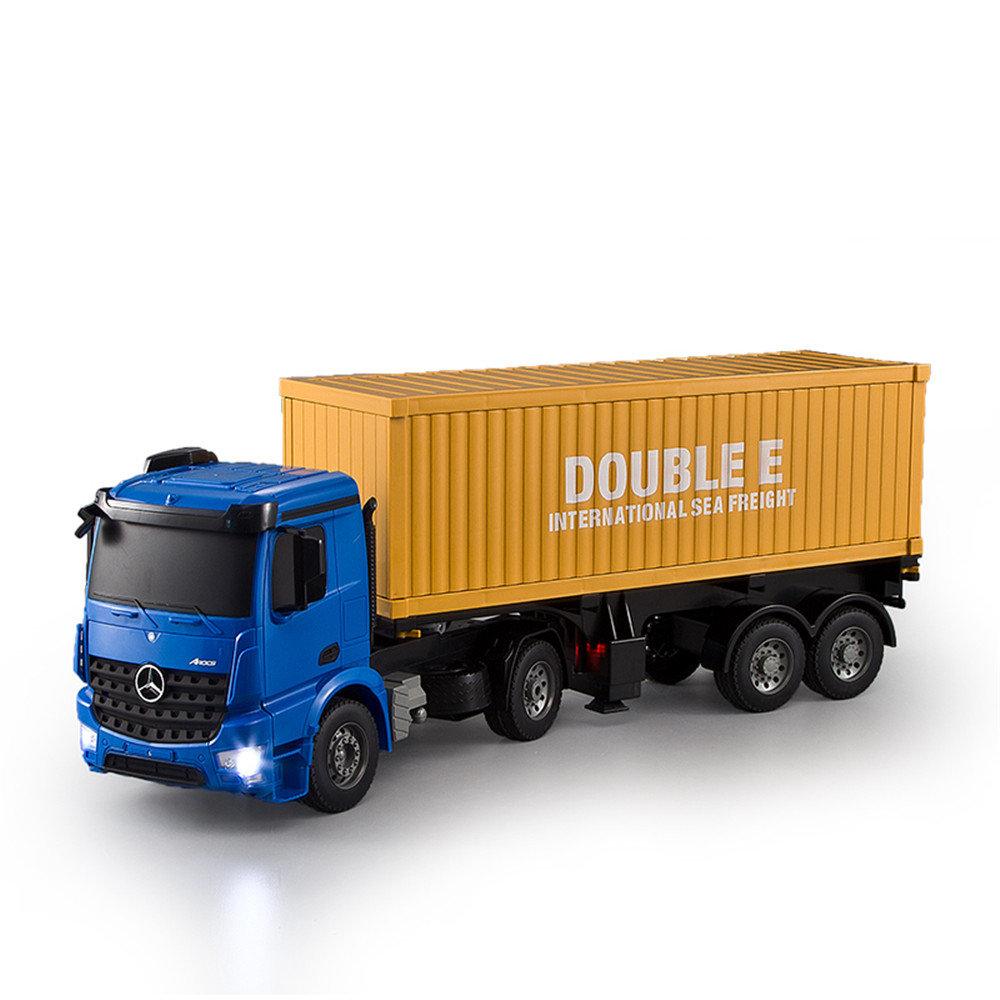truck: (75, 345, 932, 816)
